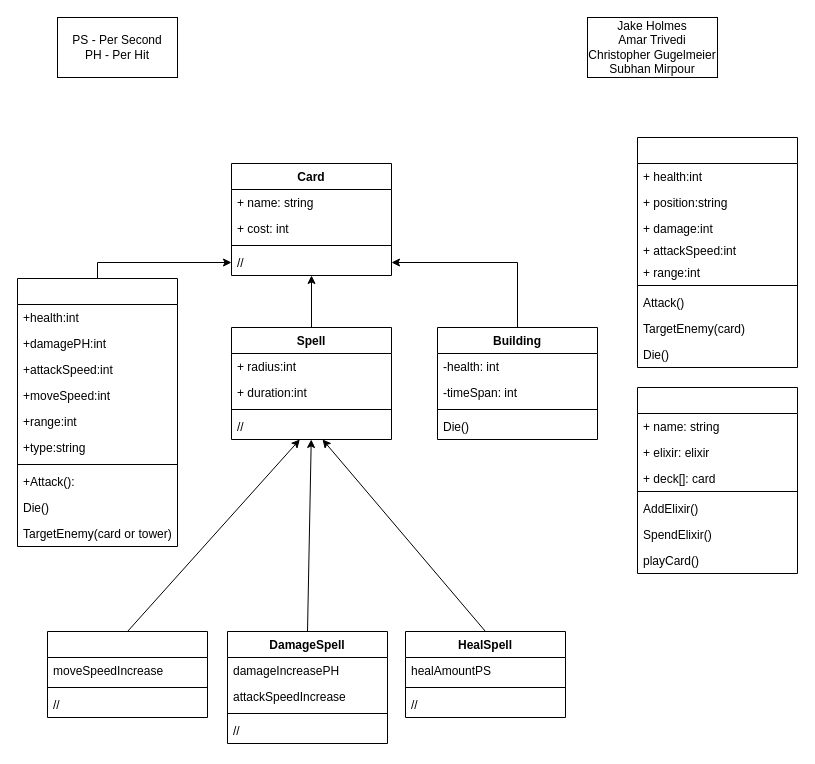
This 815x764 diagram has some shape labels left out. The shapes that lost their labels are listed below. From the top down, each one's box as (x1, y1, x2, y2) in pixels, then its label:
(636, 136, 798, 368): Tower
(16, 278, 178, 546): Troop
(636, 386, 798, 574): Player
(46, 630, 208, 718): MovementSpeedSpell
